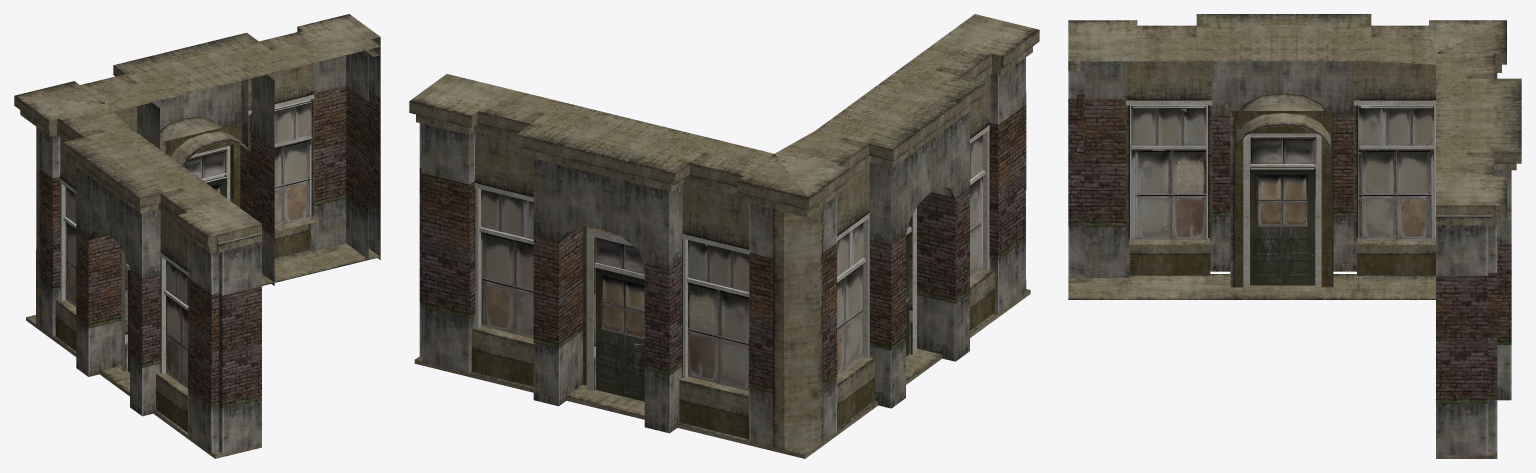
The model's file is Corner_Building_Part_013_Base.fbx.
The picture shows the model from 3 angles, left to right: view 1: azimuth 30°, elevation 25°; view 2: azimuth 150°, elevation 25°; view 3: azimuth 270°, elevation 25°; orthographic projection. The views are drawn at different scales.
Parts seen in each view (by area): view 1: Corner_Building_Part_013_Base; view 2: Corner_Building_Part_013_Base; view 3: Corner_Building_Part_013_Base.
Boxes of the visible parts, x1,y1,x2,y2 form: Corner_Building_Part_013_Base: (14,14,380,458); Corner_Building_Part_013_Base: (409,14,1039,458); Corner_Building_Part_013_Base: (1068,14,1521,458).
Size of the model in its own units: 740 by 456 by 740.
